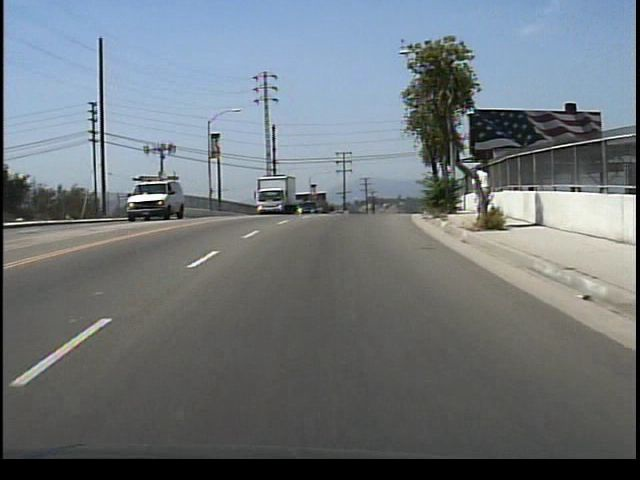person: (471, 161, 498, 225)
